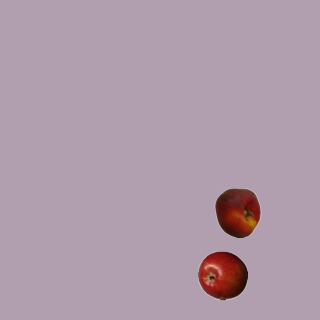Apple Braeburn: (197, 250, 247, 300)
Nectarine Flat: (212, 187, 262, 237)
